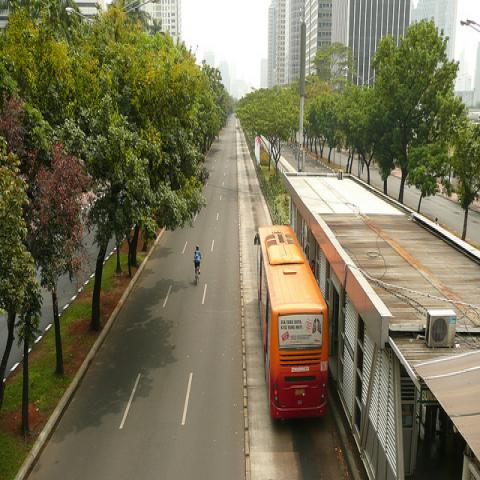bus: (257, 224, 329, 421)
